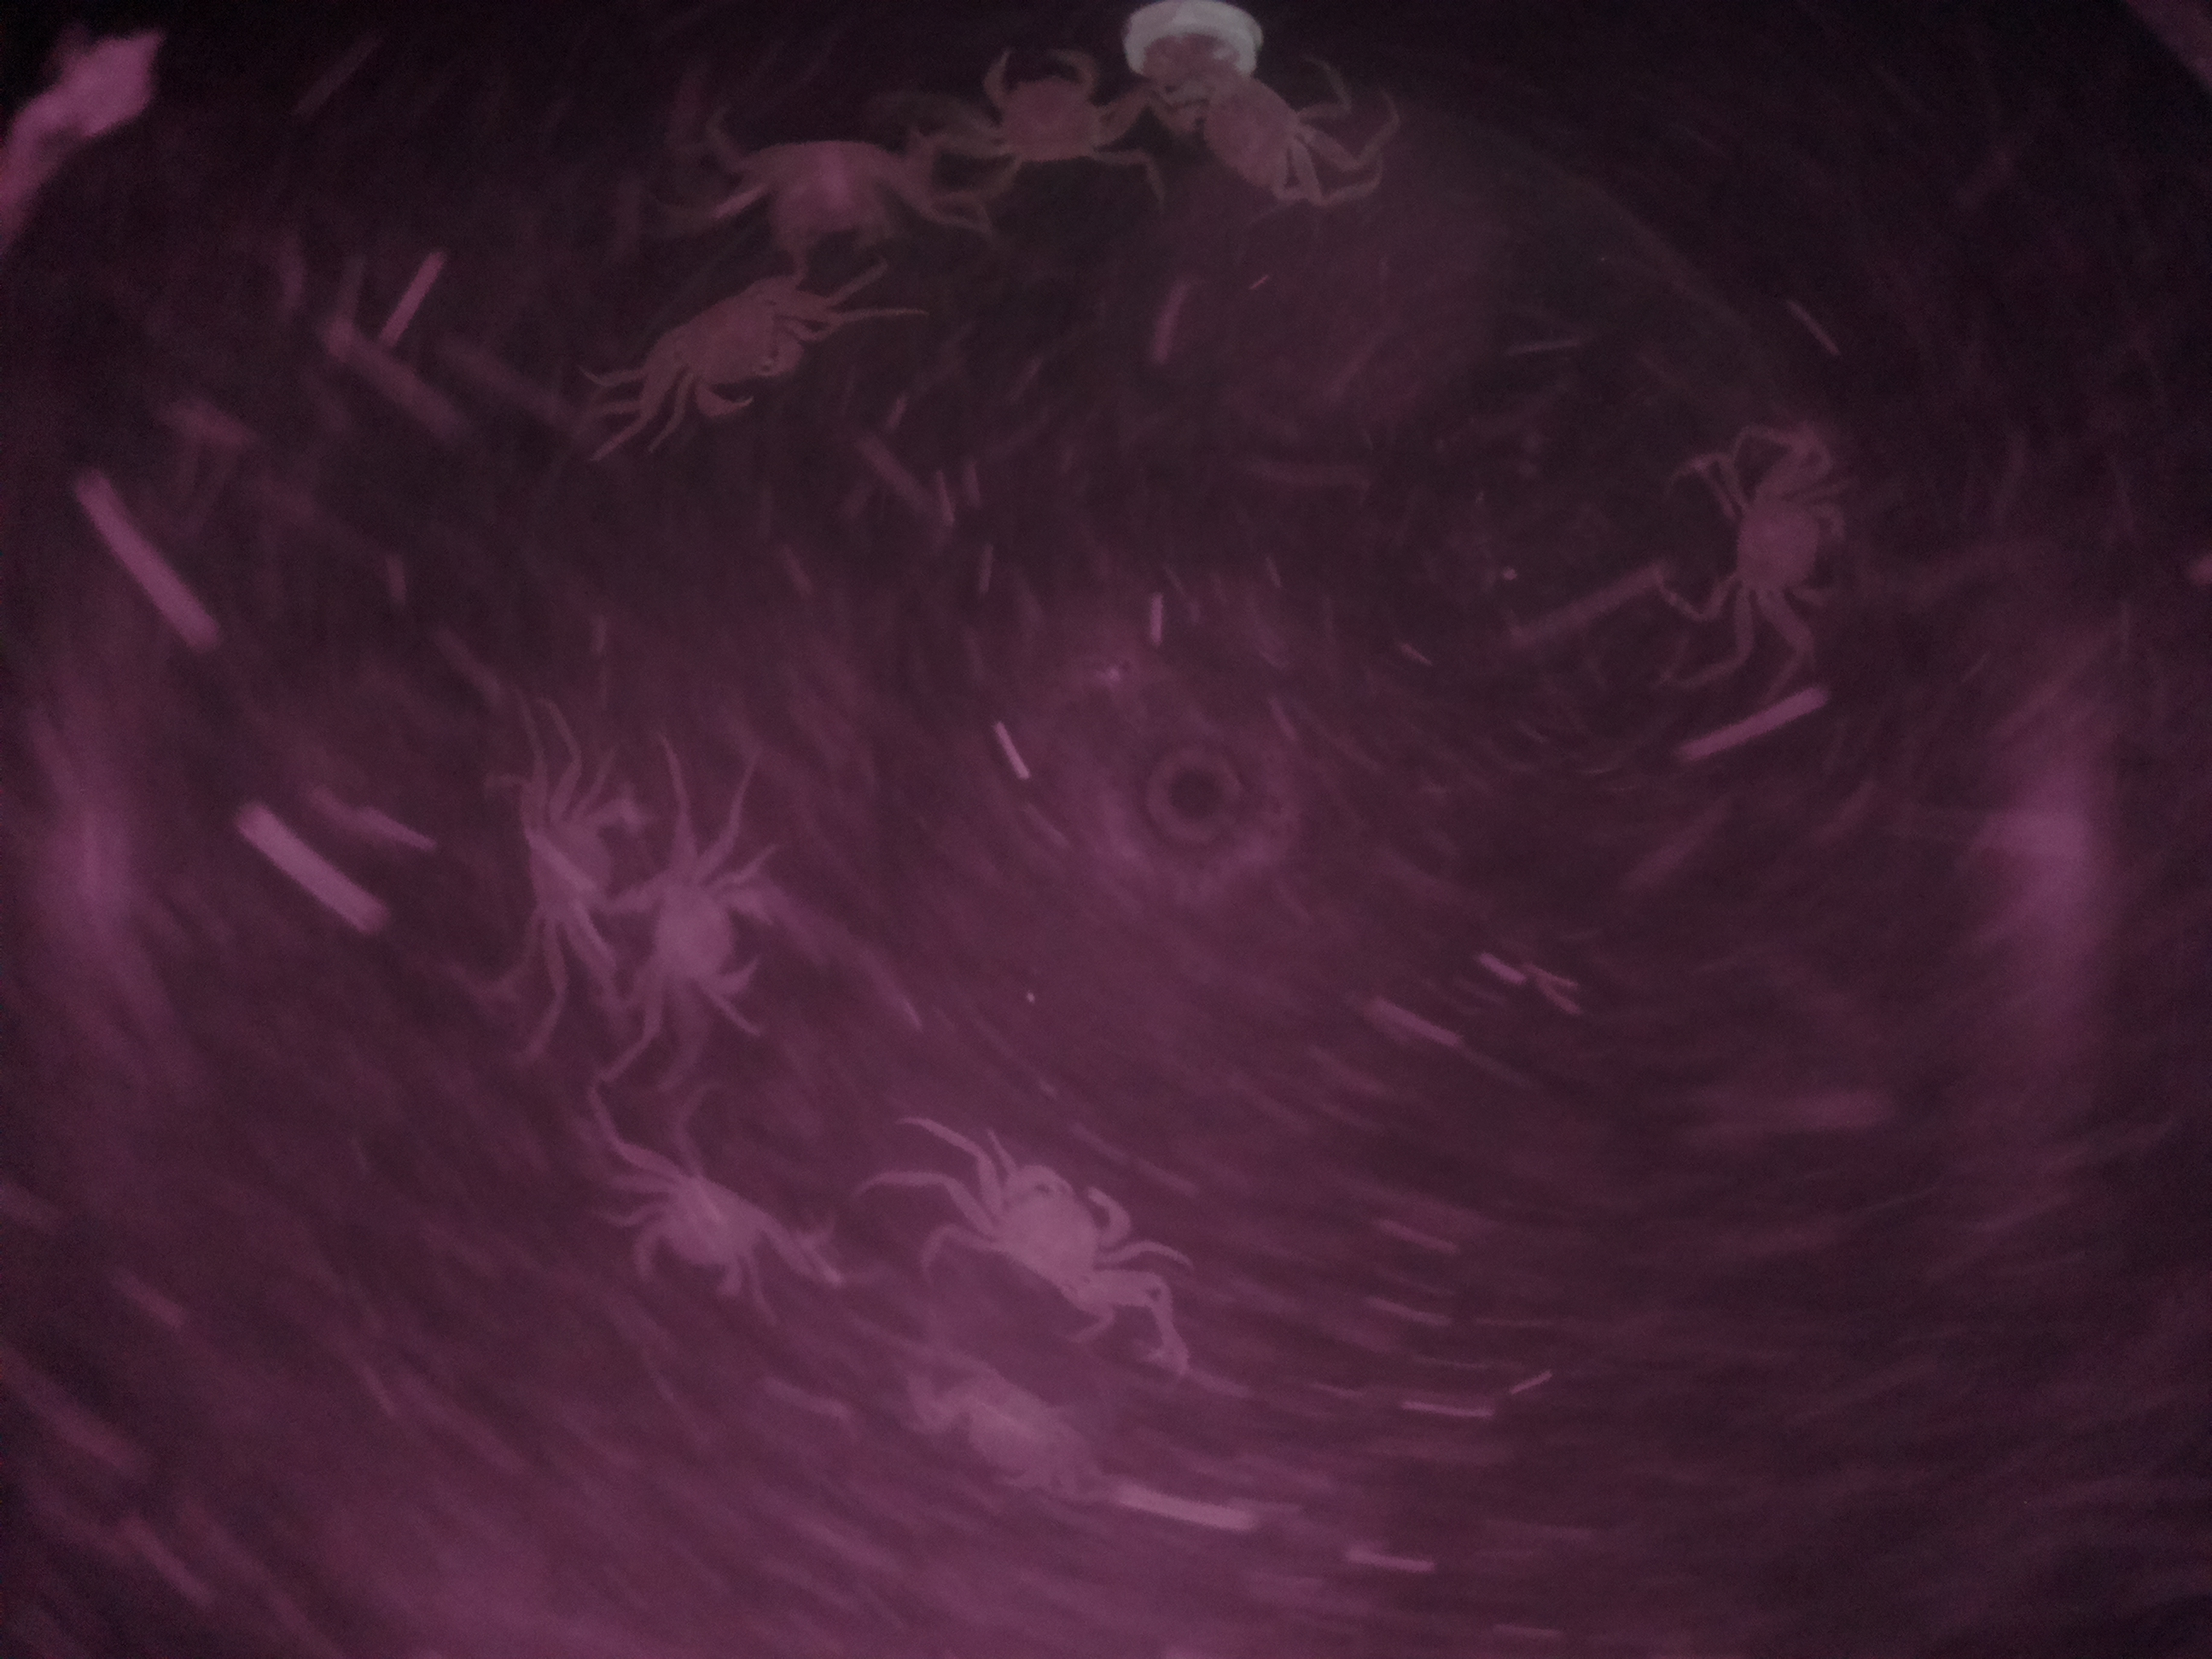Crab: (953, 1134, 1158, 1340), (611, 1141, 808, 1328), (627, 831, 792, 1047), (634, 256, 829, 430), (1689, 464, 1888, 627)
